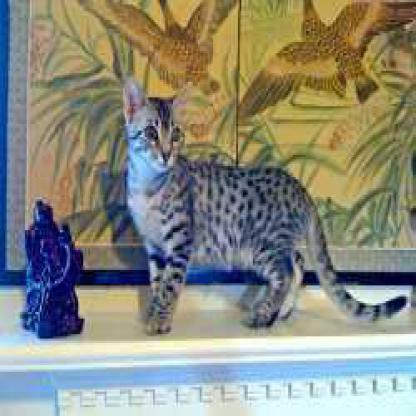cat: (122, 80, 408, 338)
